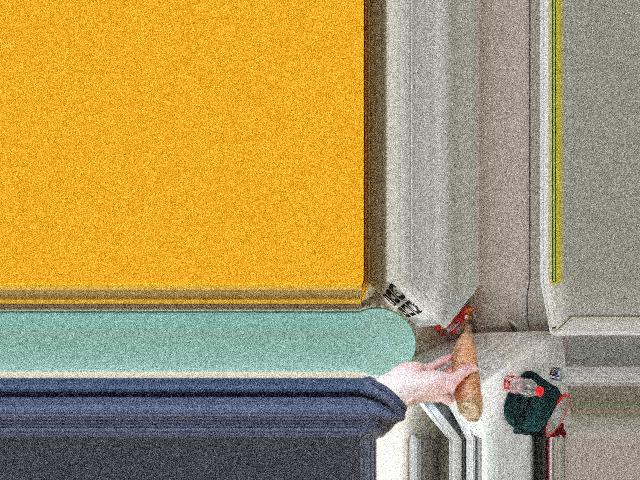sweet_potato: (453, 333, 474, 408)
